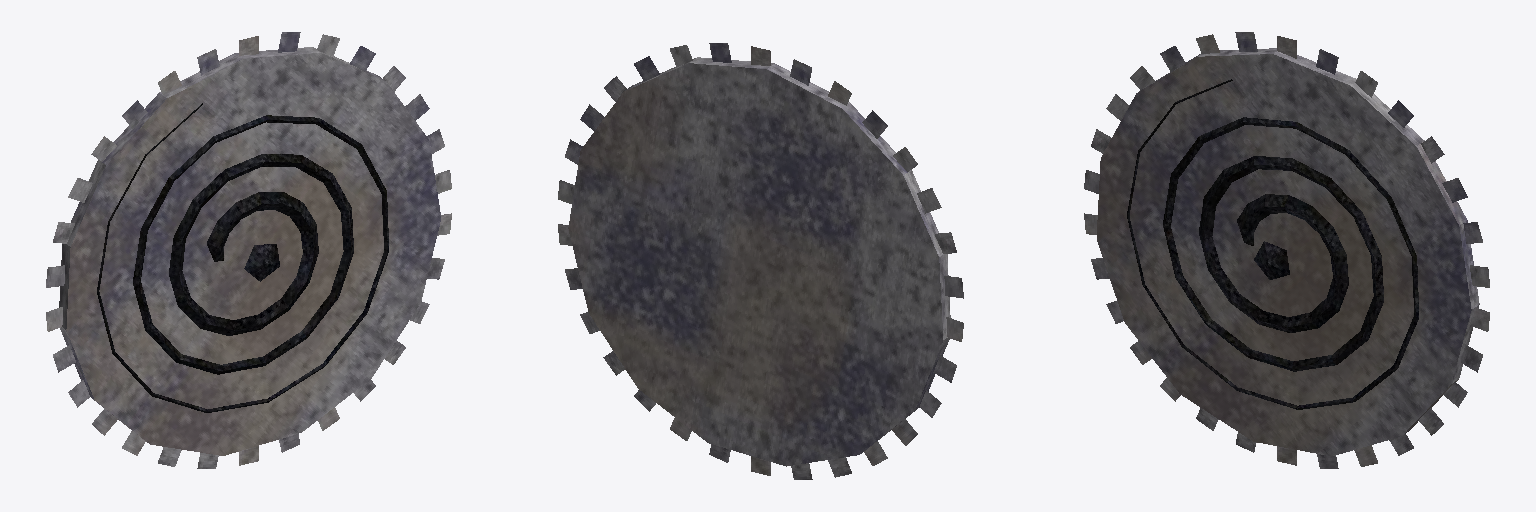
3 renders of one model, left to right at view 1: azimuth 30°, elevation 25°; view 2: azimuth 150°, elevation 25°; view 3: azimuth 330°, elevation 25°, orthographic.
Visible parts, largest first — view 1: Plane; view 2: Plane; view 3: Plane.
Part boxes in pixels (left/top/right/bottom): Plane: left=46, top=32, right=451, bottom=468; Plane: left=558, top=43, right=963, bottom=479; Plane: left=1084, top=32, right=1489, bottom=468.
Bounding box in the file's own units: 5.21 × 5.21 × 0.495.
2 materials, 2 textured.